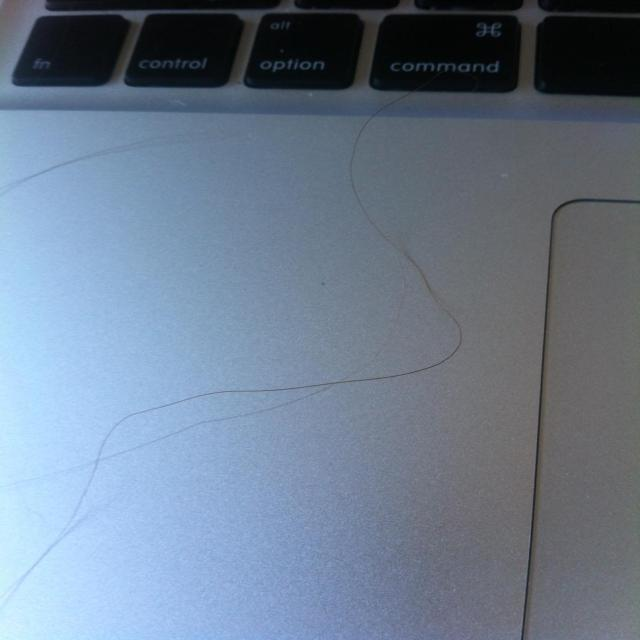hair: (20, 379, 328, 576), (344, 95, 471, 385), (13, 145, 123, 187)
